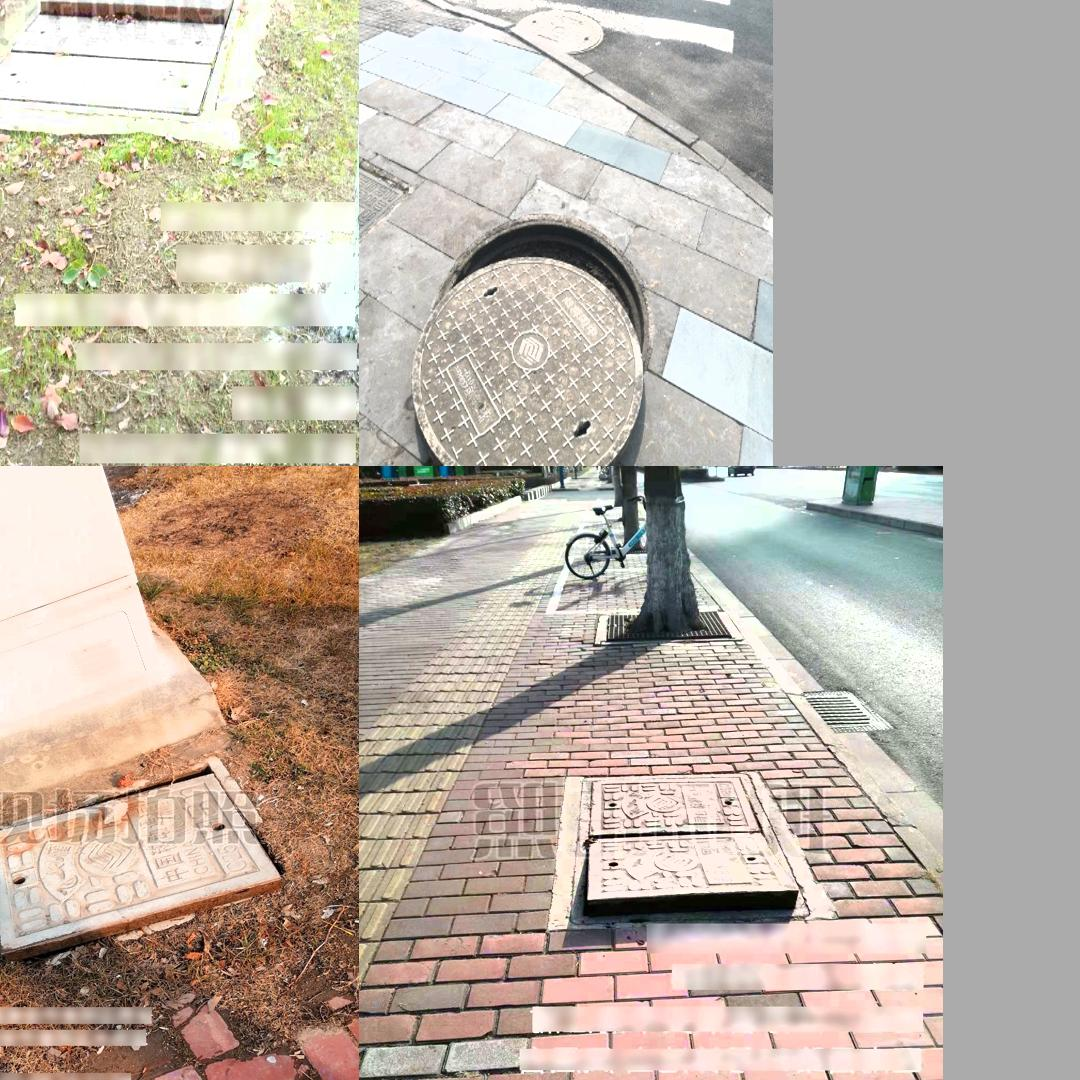good: (509, 11, 603, 51)
uncovered: (413, 216, 650, 463), (0, 757, 280, 953), (566, 775, 808, 929), (0, 0, 249, 127)
